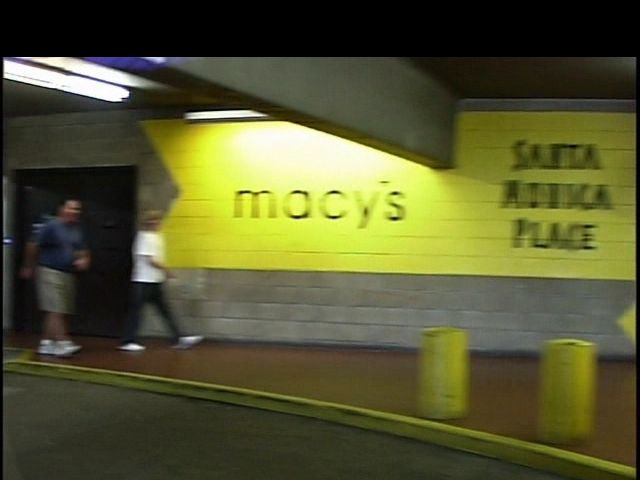person: (107, 199, 191, 367), (24, 187, 89, 362)
